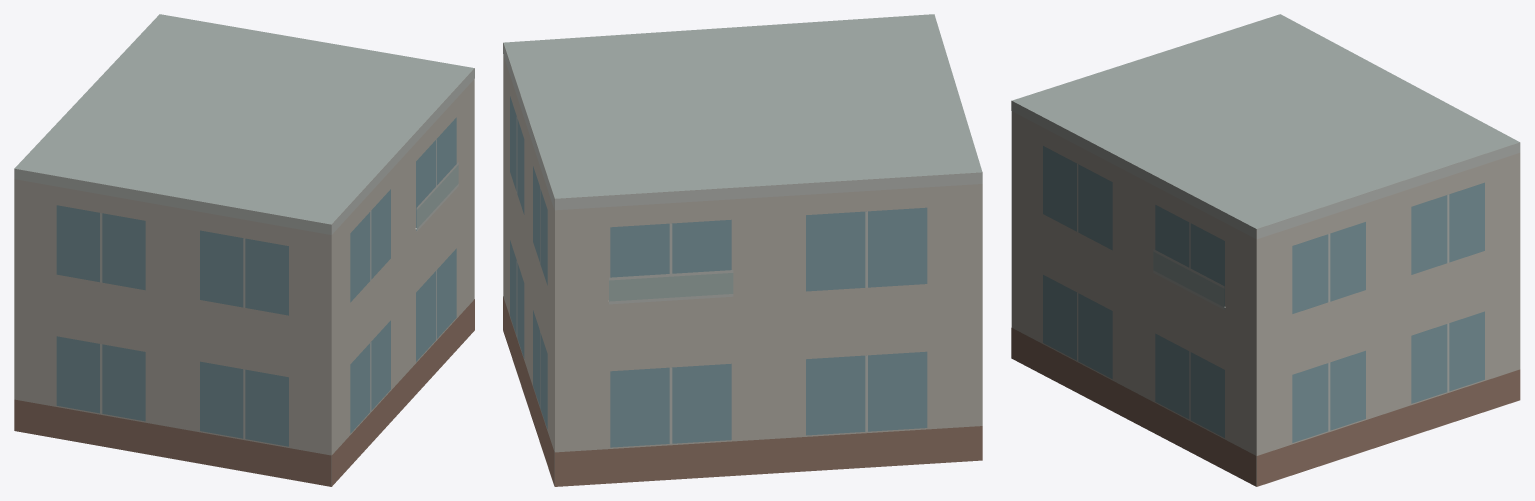
Rendered from survey-upis-32888166.glb.
3 renders of one model, left to right at view 1: azimuth 30°, elevation 25°; view 2: azimuth 150°, elevation 25°; view 3: azimuth 270°, elevation 25°, orthographic. The views are drawn at different scales.
Parts seen in each view (by area): view 1: survey-upis-32888166.tmp; view 2: survey-upis-32888166.tmp; view 3: survey-upis-32888166.tmp.
Part boxes in pixels (<box>): survey-upis-32888166.tmp: <box>14,14,474,486</box>; survey-upis-32888166.tmp: <box>503,14,982,486</box>; survey-upis-32888166.tmp: <box>1011,14,1520,486</box>.
Size of the model in its own units: 10.92 by 6.1 by 10.92.
